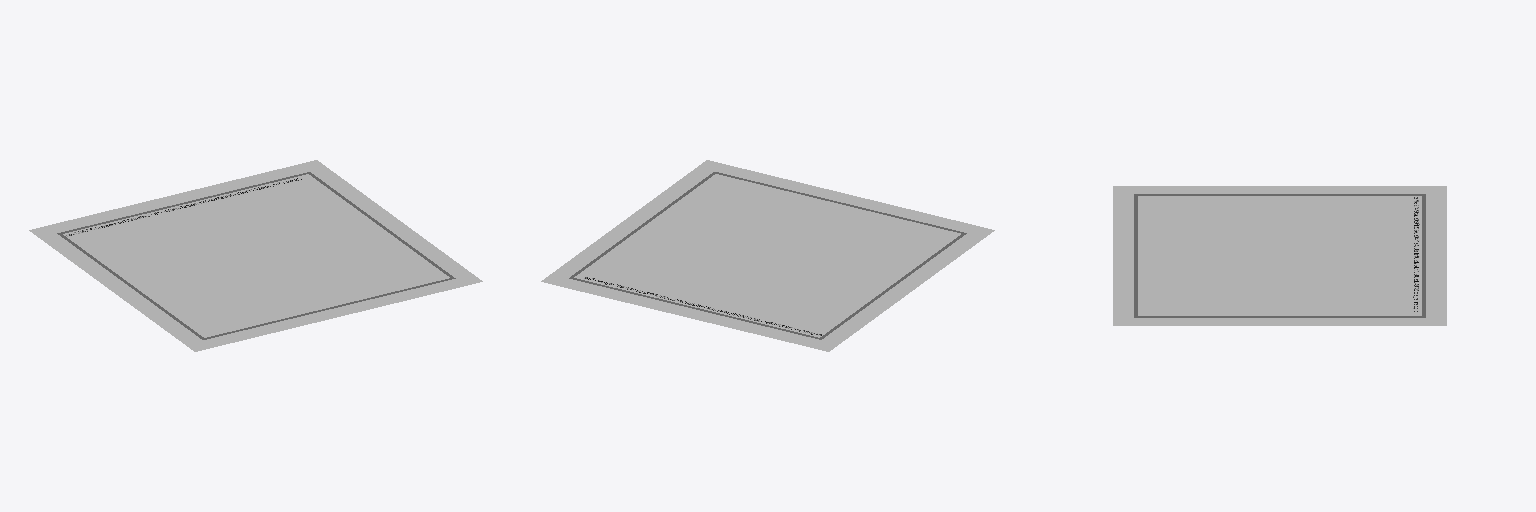
3 renders of one model, left to right at view 1: azimuth 30°, elevation 25°; view 2: azimuth 150°, elevation 25°; view 3: azimuth 270°, elevation 25°, orthographic.
Bounding box in the file's own units: 1 × 0 × 1.
1 materials, 1 textured.